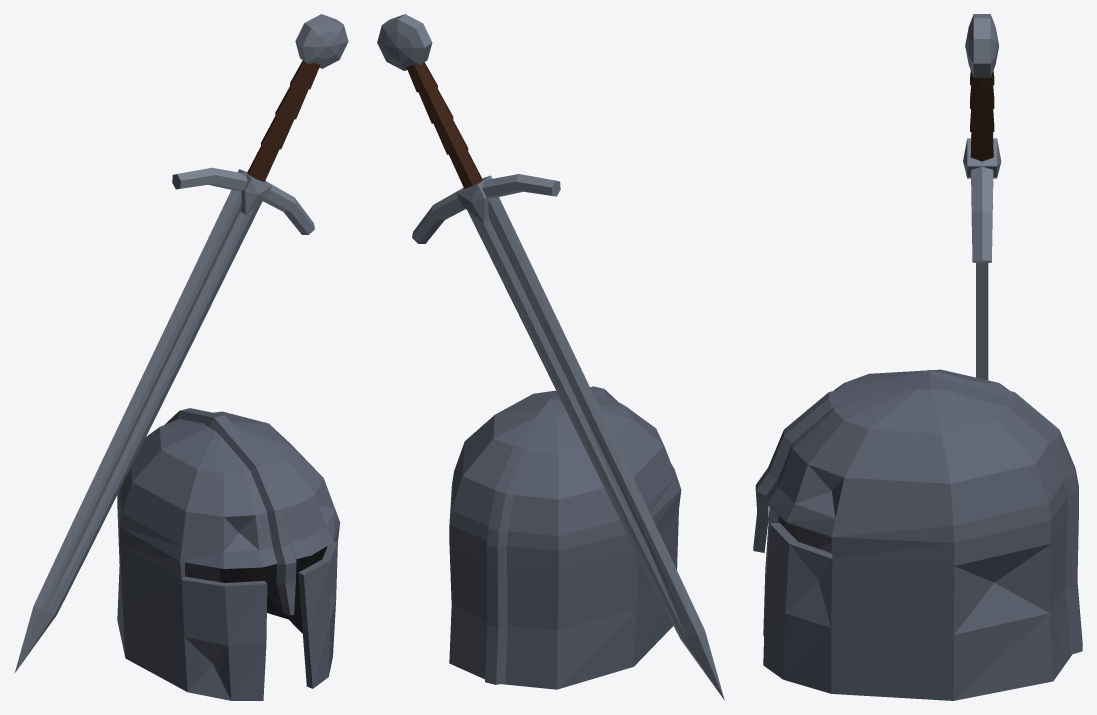
File: lost-adventurer-sword-29493c.glb
3 renders of one model, left to right at view 1: azimuth 30°, elevation 25°; view 2: azimuth 150°, elevation 25°; view 3: azimuth 270°, elevation 25°, orthographic. The views are drawn at different scales.
Visible parts, largest first — view 1: sword-and-helmet; view 2: sword-and-helmet; view 3: sword-and-helmet.
Boxes of the visible parts, <box> form: sword-and-helmet: <box>14,14,348,700</box>; sword-and-helmet: <box>377,14,724,700</box>; sword-and-helmet: <box>753,14,1082,700</box>.
Size of the model in its own units: 0.6531 by 1.1 by 0.4634.
